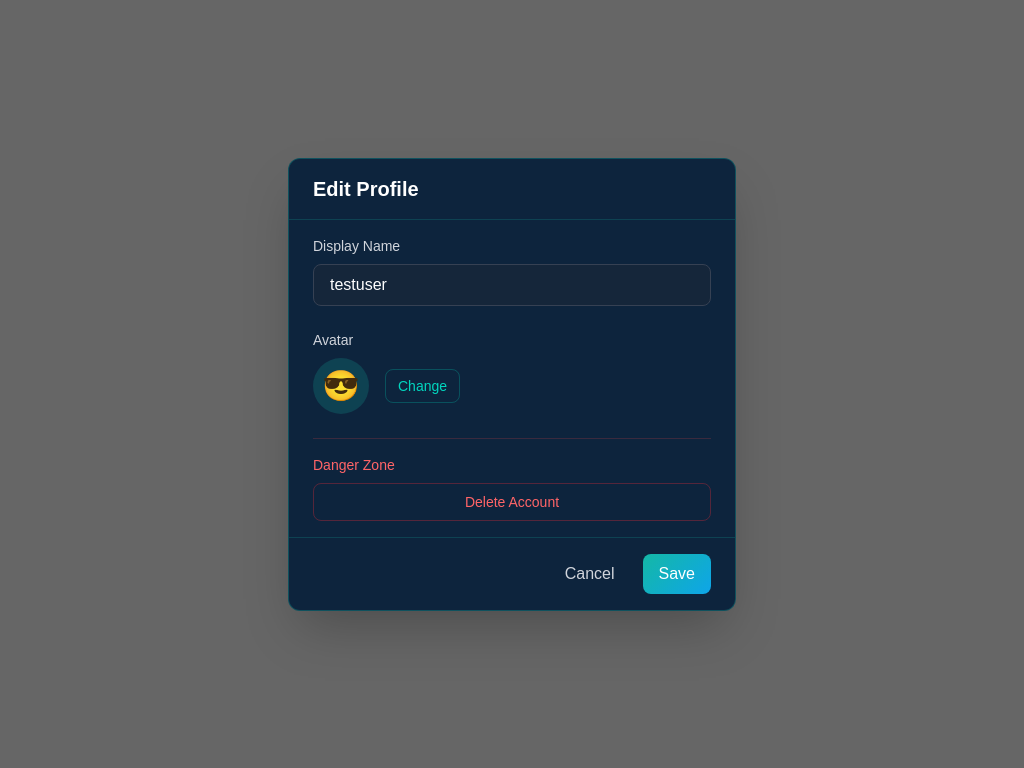
it: ProfileSettings › submits updated profile › should show loading state while submitting
The image size is (1024, 768).
Note: Change display name to trigger API call
Replace the text in the field labelled "Display Name" with "newdisplayname": (512, 284) [313,264,711,306]
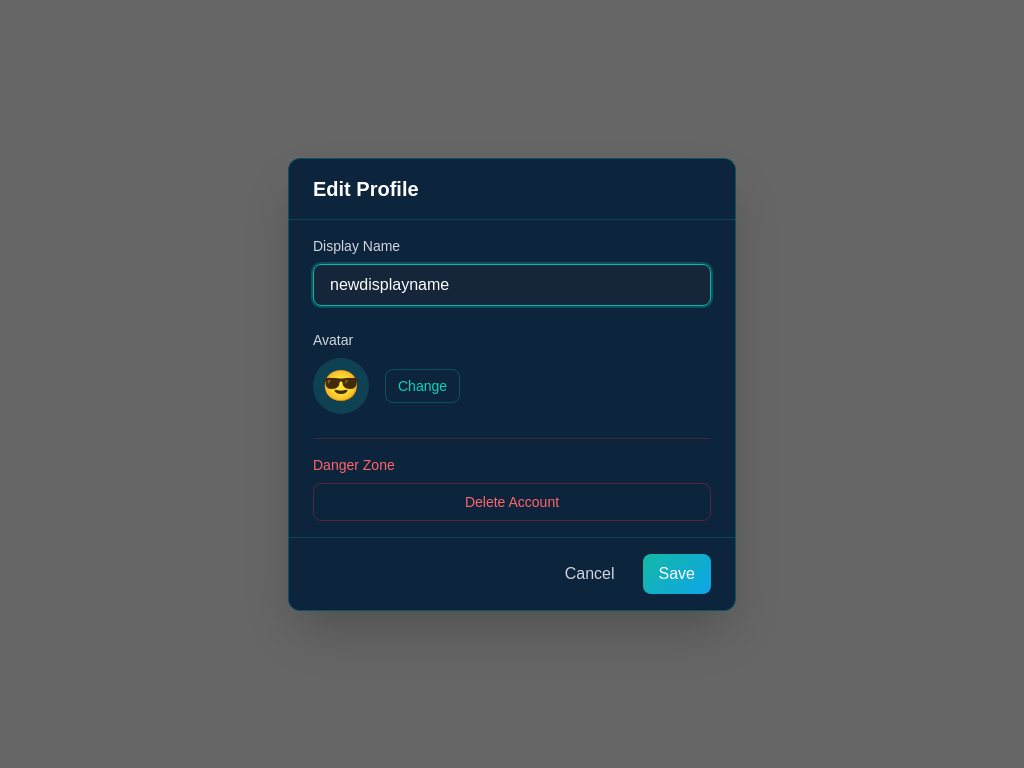
Click the button "Save": (677, 574) [642,554,711,594]
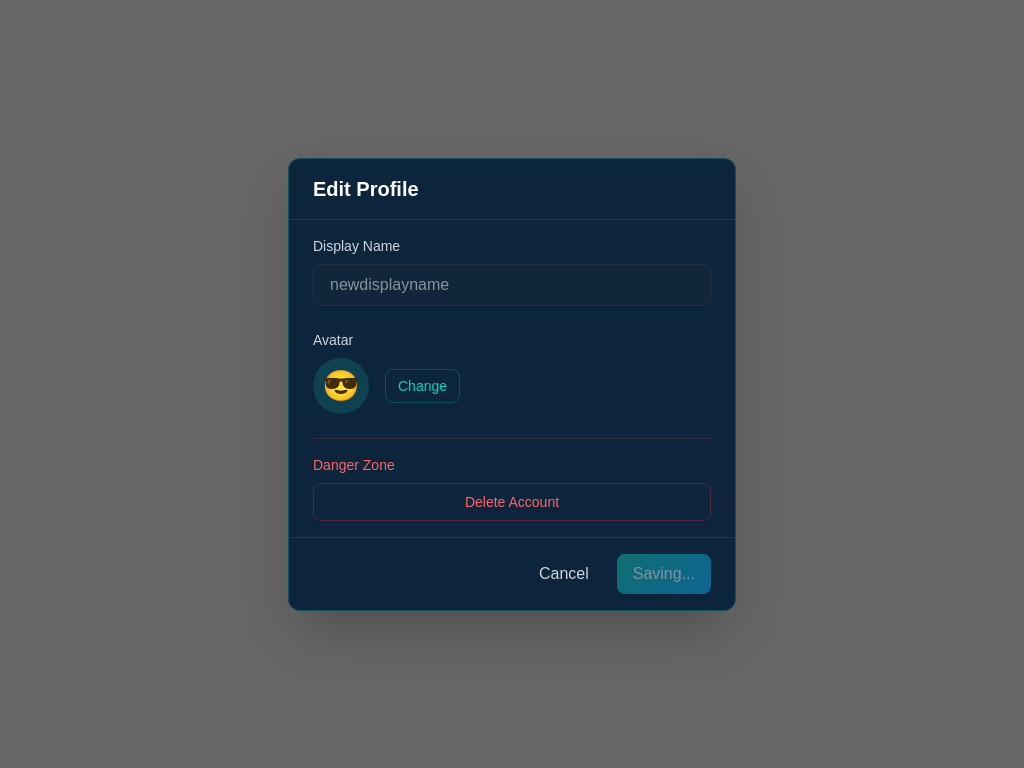
Expected: the button named "save" is disabled, [617,554,711,594]
